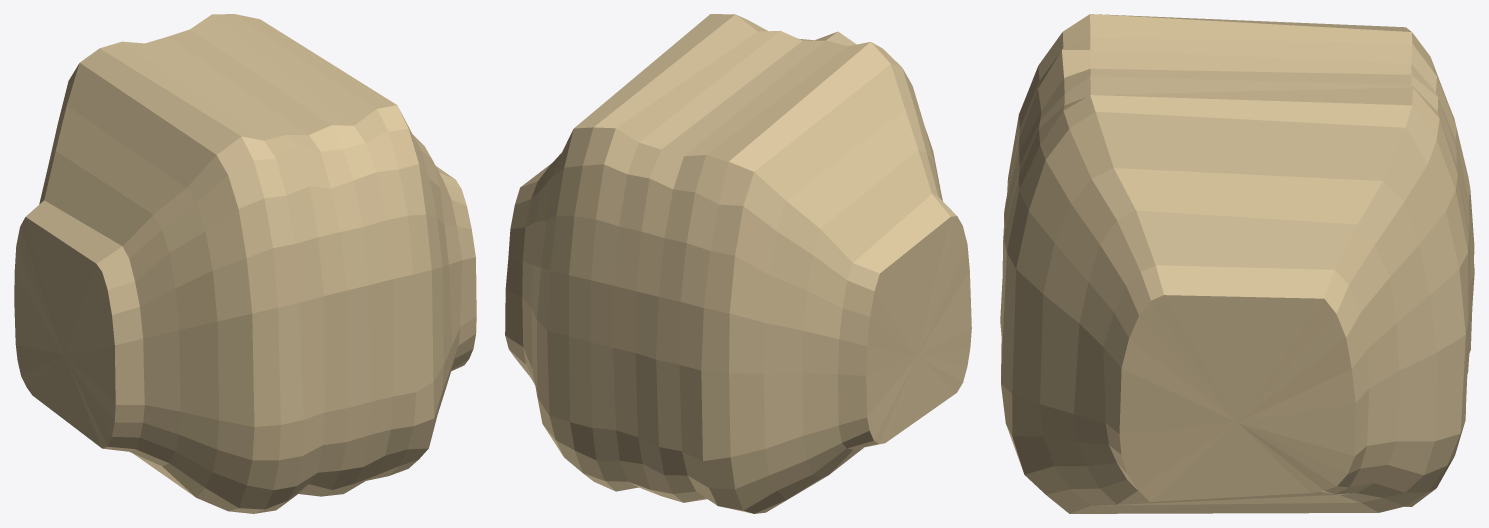
Rendered from sandbag.glb.
3 views of the same model, side by side, from view 1: azimuth 30°, elevation 25°; view 2: azimuth 150°, elevation 25°; view 3: azimuth 270°, elevation 25° (orthographic). The views are drawn at different scales.
Parts seen in each view (by area): view 1: Sandbag; view 2: Sandbag; view 3: Sandbag.
Part boxes in pixels (x1,y1,x2,y2): Sandbag: [14, 14, 476, 513]; Sandbag: [505, 14, 971, 513]; Sandbag: [1000, 14, 1474, 513].
Bounding box in the file's own units: 1 × 1 × 1.
